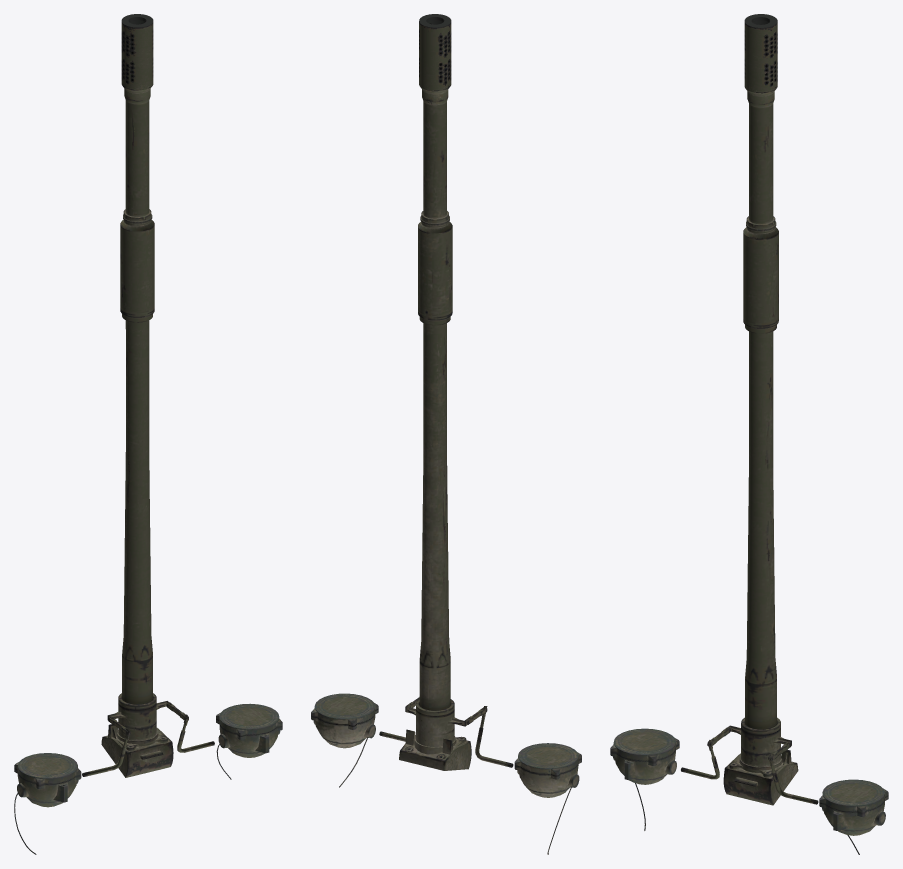
Rendered from Gun_02.glb.
3 views of the same model, side by side, from view 1: azimuth 30°, elevation 25°; view 2: azimuth 150°, elevation 25°; view 3: azimuth 330°, elevation 25° (orthographic). The views are drawn at different scales.
Parts seen in each view (by area): view 1: set_0_group_0; view 2: set_0_group_0; view 3: set_0_group_0.
Boxes of the visible parts, left/top/right/bottom form: set_0_group_0: left=14, top=14, right=282, bottom=854; set_0_group_0: left=311, top=14, right=581, bottom=854; set_0_group_0: left=610, top=14, right=888, bottom=854.
Size of the model in its own units: 1.7 by 5.11 by 0.489.
1 material, 1 textured.
